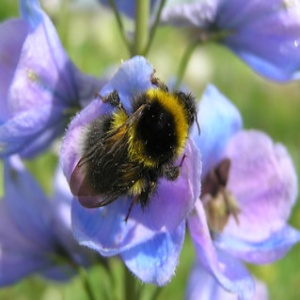bee: (109, 85, 197, 192)
